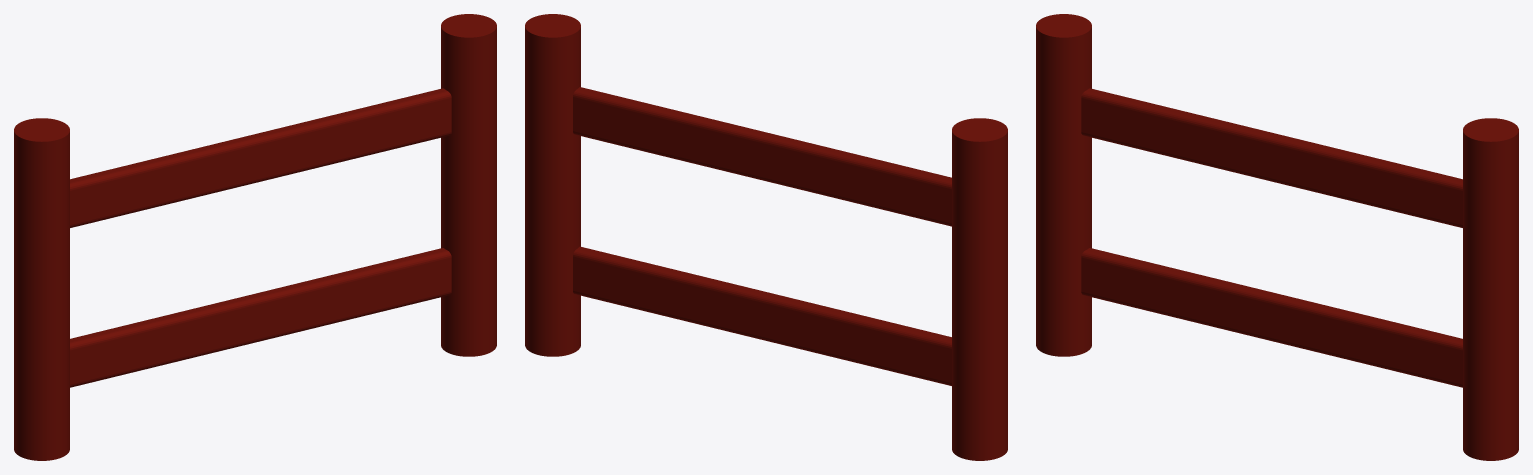
The model's file is fenceB.fbx.
3 views of the same model, side by side, from view 1: azimuth 30°, elevation 25°; view 2: azimuth 150°, elevation 25°; view 3: azimuth 330°, elevation 25° (orthographic).
Visible parts, largest first — view 1: Cylinder.002; view 2: Cylinder.002; view 3: Cylinder.002.
Boxes of the visible parts, box(x1,y1,x2,y2) form: Cylinder.002: box(14, 14, 496, 460); Cylinder.002: box(525, 14, 1007, 460); Cylinder.002: box(1036, 14, 1518, 460).
Size of the model in its own units: 61.38 by 39.37 by 6.26.
